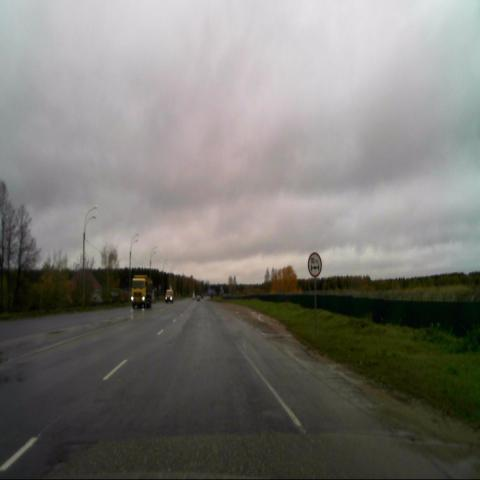3_12: (307, 251, 323, 279)
